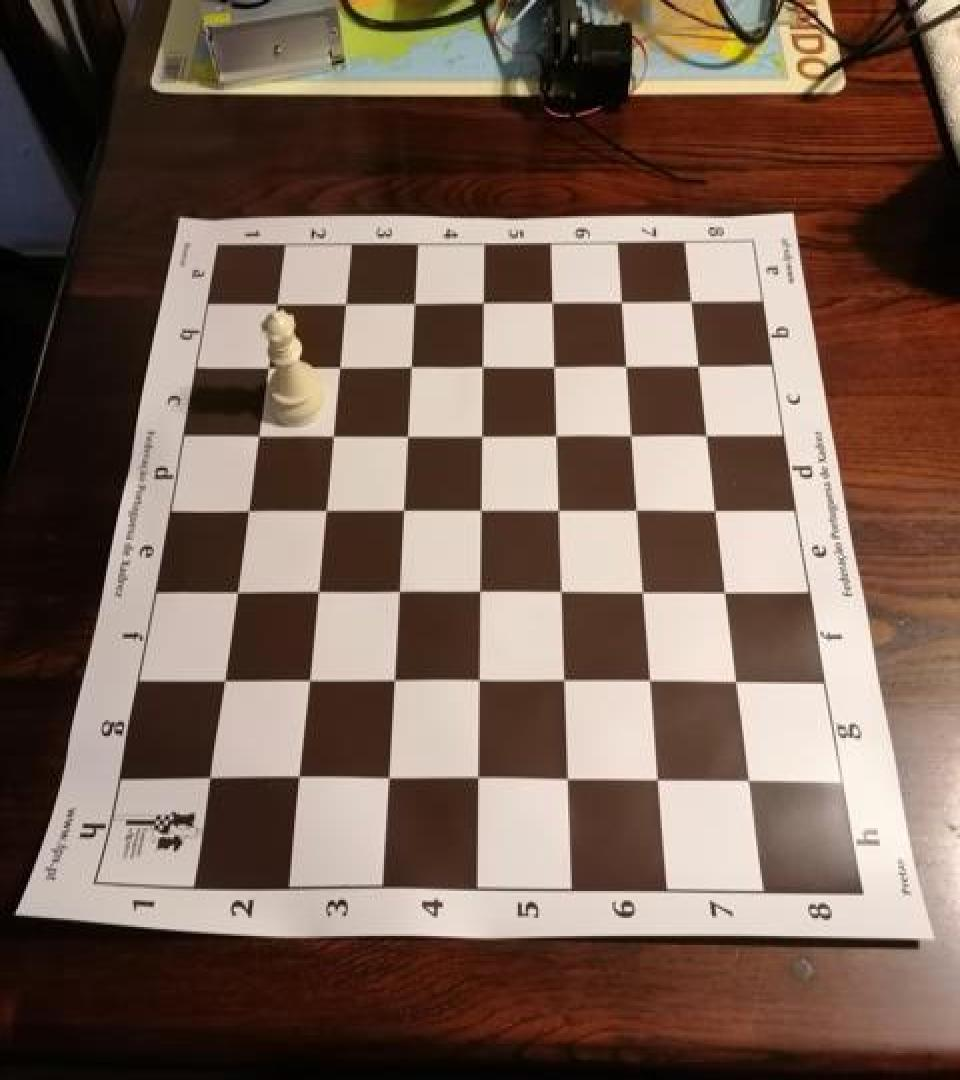xcorner: (714, 571, 746, 608), (631, 571, 663, 608), (548, 571, 580, 608), (465, 571, 497, 608), (725, 661, 757, 698), (638, 661, 670, 698), (551, 661, 583, 698), (464, 660, 496, 697), (377, 660, 409, 697), (291, 660, 323, 697), (737, 761, 769, 798), (679, 282, 711, 318), (608, 282, 640, 318), (538, 282, 570, 318), (469, 284, 501, 320), (399, 284, 431, 320), (330, 284, 362, 320), (260, 284, 292, 320), (686, 346, 718, 382), (613, 346, 645, 382), (540, 346, 572, 382), (468, 346, 500, 382), (395, 346, 427, 382), (323, 346, 355, 382), (251, 346, 283, 382), (695, 415, 727, 451), (619, 415, 651, 451), (543, 415, 575, 451), (467, 415, 499, 451), (391, 415, 423, 451), (316, 415, 348, 451), (241, 415, 273, 451), (704, 490, 736, 526), (624, 490, 656, 526), (545, 490, 577, 526), (466, 490, 498, 526), (387, 490, 419, 526), (308, 490, 340, 526), (230, 490, 262, 526), (382, 570, 414, 606), (300, 570, 332, 606), (218, 570, 250, 606), (205, 659, 237, 695), (645, 760, 677, 796), (554, 760, 586, 796), (463, 760, 495, 796), (372, 760, 404, 796), (281, 758, 313, 794), (191, 758, 223, 794)
